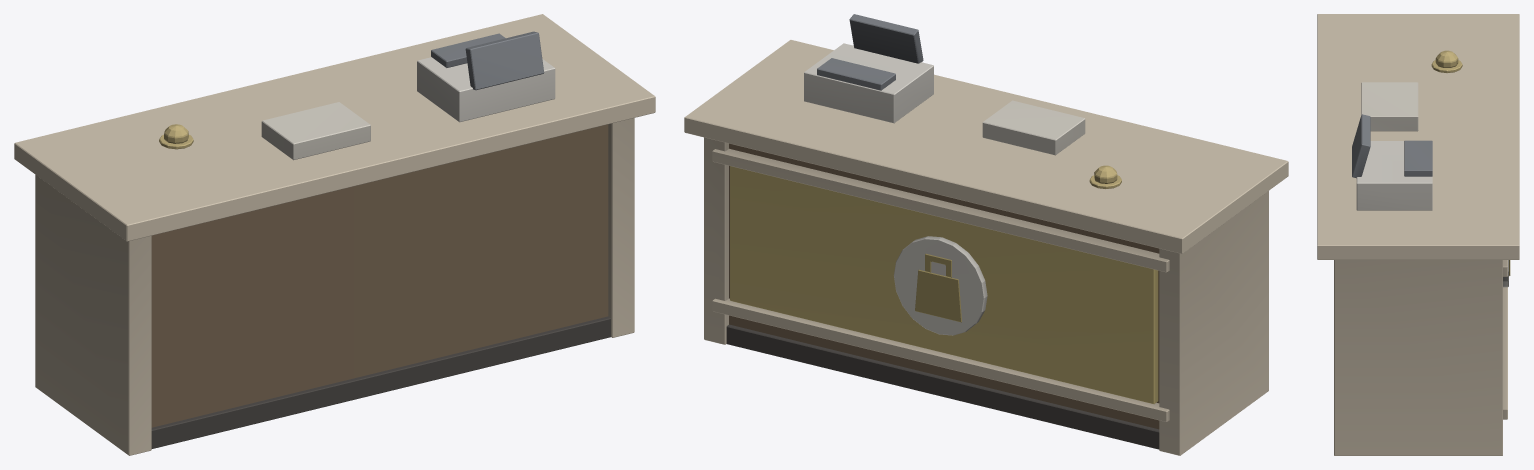
Rendered from mall_counter__f1.glb.
The picture shows the model from 3 angles, left to right: view 1: azimuth 30°, elevation 25°; view 2: azimuth 150°, elevation 25°; view 3: azimuth 270°, elevation 25°; orthographic projection. The views are drawn at different scales.
Visible parts, largest first — view 1: mall.counter__f1; view 2: mall.counter__f1; view 3: mall.counter__f1.
Boxes of the visible parts, box(x1,y1,x2,y2) form: mall.counter__f1: box(14, 14, 655, 455); mall.counter__f1: box(684, 14, 1288, 455); mall.counter__f1: box(1317, 14, 1519, 455).
Size of the model in its own units: 2.3 by 1.28 by 0.85.
